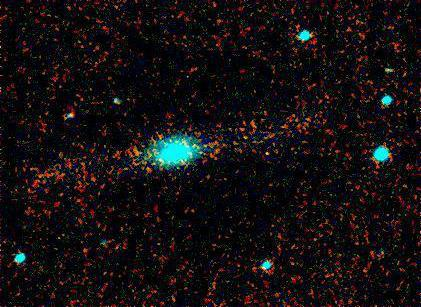star: (248, 142, 278, 172)
